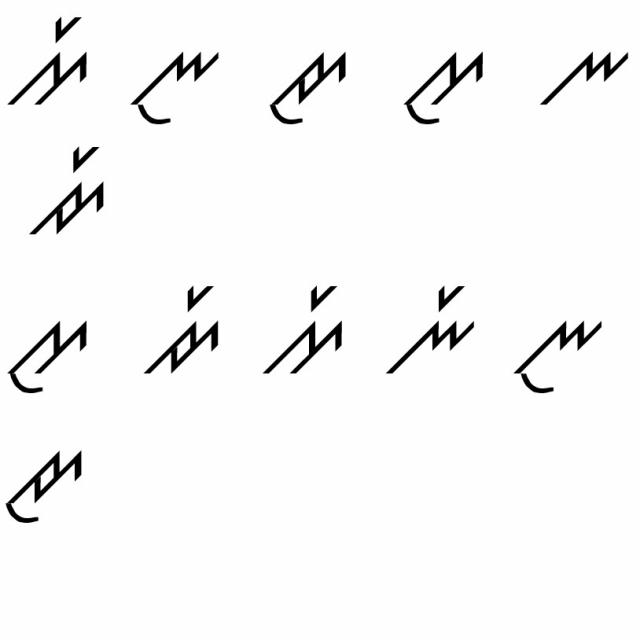jar: (143, 270, 225, 383), (19, 146, 108, 240)
jaw: (258, 44, 354, 134), (6, 438, 93, 527)
nya: (540, 35, 632, 115)
nyar: (379, 277, 476, 383)
nyaw: (117, 45, 223, 135), (502, 311, 609, 399)
sar: (258, 277, 350, 377), (7, 12, 94, 112)
saw: (7, 305, 92, 402), (400, 42, 488, 133)
